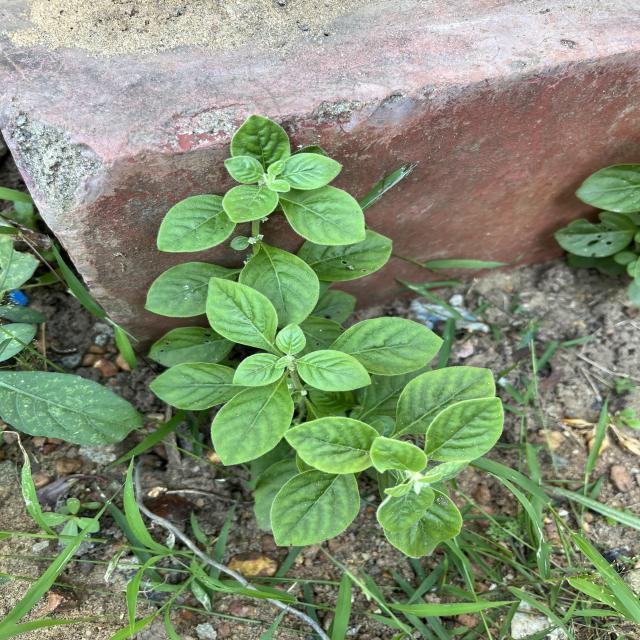Aerva lanata: (267, 468, 363, 550), (394, 364, 498, 437), (237, 242, 322, 331), (326, 315, 446, 378), (203, 276, 280, 356), (278, 183, 367, 247), (153, 192, 238, 255), (227, 112, 293, 177), (294, 348, 374, 392)
